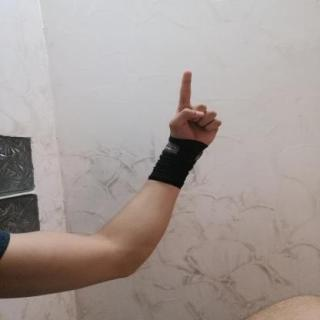BAA: (160, 65, 228, 152)
